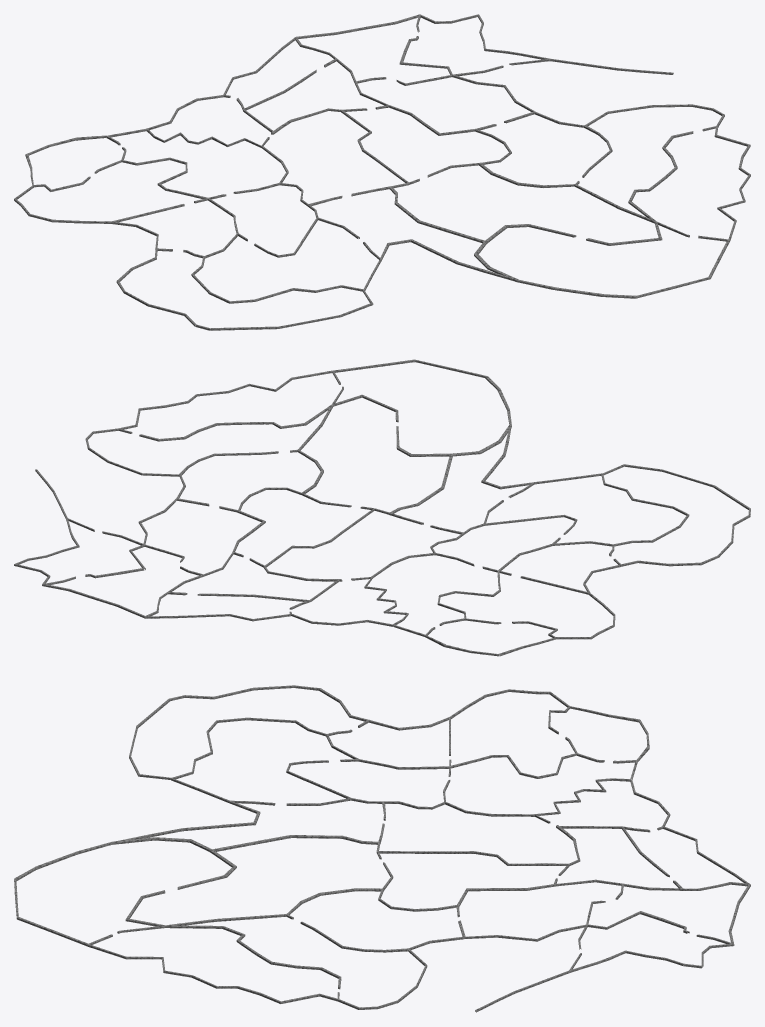
The model's file is tuong map FIX.fbx.
The picture shows the model from 3 angles, top to bottom: view 1: azimuth 30°, elevation 25°; view 2: azimuth 150°, elevation 25°; view 3: azimuth 270°, elevation 25°; orthographic projection. The views are drawn at different scales.
Parts seen in each view (by area): view 1: tuong_map15, tuong_map22, tuong_map7, tuong_map_1, tuong_map_17, tuong_map23, tuong_map21, tuong_map13, tuong_map8, tuong_map5, tuong_map3, tuong_map10 (+6 smaller); view 2: tuong_map15, tuong_map7, tuong_map_17, tuong_map_1, tuong_map22, tuong_map11, tuong_map21, tuong_map13, tuong_map23, tuong_map16, tuong_map4, tuong_map10 (+6 smaller); view 3: tuong_map15, tuong_map7, tuong_map_17, tuong_map22, tuong_map_1, tuong_map21, tuong_map8, tuong_map13, tuong_map16, tuong_map18, tuong_map23, tuong_map11 (+6 smaller).
Boxes of the visible parts, x1=… form: tuong_map15: x1=474, y1=221, x2=730, y2=298; tuong_map22: x1=451, y1=59, x2=691, y2=127; tuong_map7: x1=191, y1=217, x2=381, y2=303; tuong_map_1: x1=116, y1=249, x2=373, y2=330; tuong_map_17: x1=574, y1=104, x2=724, y2=223; tuong_map23: x1=295, y1=14, x2=451, y2=85; tuong_map21: x1=399, y1=14, x2=550, y2=74; tuong_map13: x1=341, y1=110, x2=511, y2=184; tuong_map8: x1=306, y1=203, x2=514, y2=280; tuong_map5: x1=106, y1=129, x2=207, y2=198; tuong_map3: x1=14, y1=185, x2=207, y2=223; tuong_map10: x1=146, y1=95, x2=269, y2=147; tuong_map15: x1=332, y1=359, x2=511, y2=456; tuong_map7: x1=484, y1=473, x2=689, y2=546; tuong_map_17: x1=85, y1=404, x2=333, y2=450; tuong_map_1: x1=603, y1=464, x2=750, y2=566; tuong_map22: x1=35, y1=447, x2=185, y2=545; tuong_map11: x1=144, y1=591, x2=310, y2=621; tuong_map21: x1=14, y1=518, x2=145, y2=584; tuong_map13: x1=238, y1=487, x2=374, y2=567; tuong_map23: x1=42, y1=544, x2=204, y2=618; tuong_map16: x1=118, y1=370, x2=332, y2=429; tuong_map4: x1=425, y1=618, x2=557, y2=656; tuong_map10: x1=291, y1=577, x2=408, y2=626; tuong_map15: x1=14, y1=837, x2=236, y2=946; tuong_map7: x1=171, y1=717, x2=359, y2=802; tuong_map_17: x1=165, y1=914, x2=398, y2=1009; tuong_map22: x1=397, y1=924, x2=587, y2=1012; tuong_map_1: x1=129, y1=685, x2=367, y2=779; tuong_map21: x1=569, y1=911, x2=733, y2=972; tuong_map8: x1=118, y1=798, x2=385, y2=840; tuong_map13: x1=376, y1=851, x2=569, y2=911; tuong_map16: x1=87, y1=944, x2=337, y2=1003; tuong_map18: x1=286, y1=888, x2=408, y2=952; tuong_map23: x1=586, y1=882, x2=750, y2=945; tuong_map11: x1=621, y1=826, x2=750, y2=888.
Bounding box in the file's own units: 85.55 × 0.2675 × 81.87.
1 material, 1 textured.
